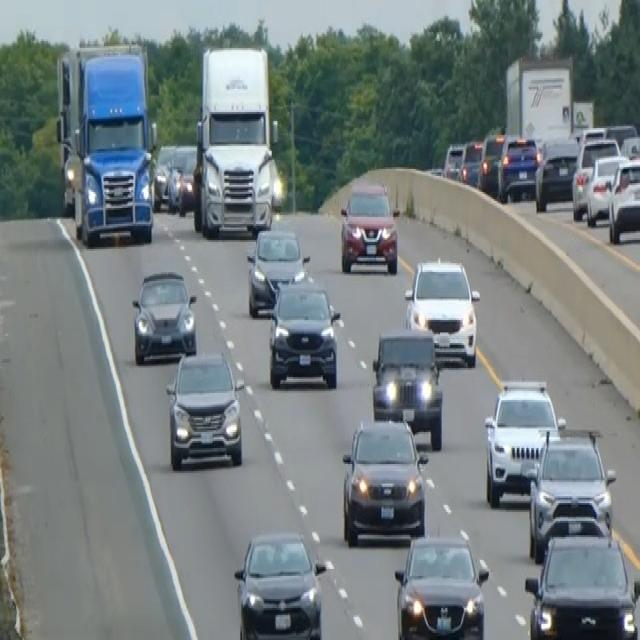car: (524, 532, 638, 638), (527, 425, 616, 560), (340, 412, 428, 546), (483, 377, 565, 507), (233, 528, 326, 638), (393, 532, 489, 638), (165, 348, 244, 469), (371, 324, 443, 449), (404, 254, 480, 366), (267, 276, 341, 390), (131, 268, 198, 364), (245, 226, 309, 316), (339, 180, 399, 274), (571, 135, 620, 221), (534, 135, 579, 210), (584, 153, 627, 226), (498, 133, 539, 203), (607, 154, 639, 243), (477, 130, 505, 194), (153, 142, 175, 208), (177, 148, 197, 215), (458, 138, 483, 186), (442, 138, 464, 180)
lorry: (55, 39, 158, 247), (191, 43, 278, 238)
